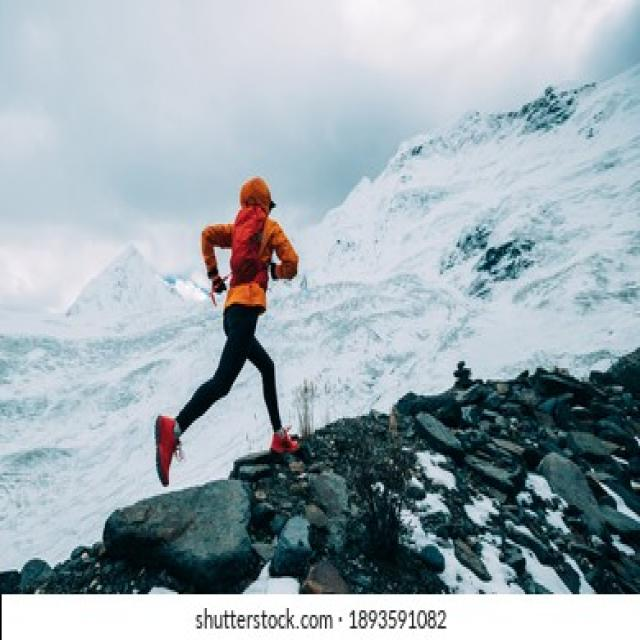running: (154, 175, 304, 490)
